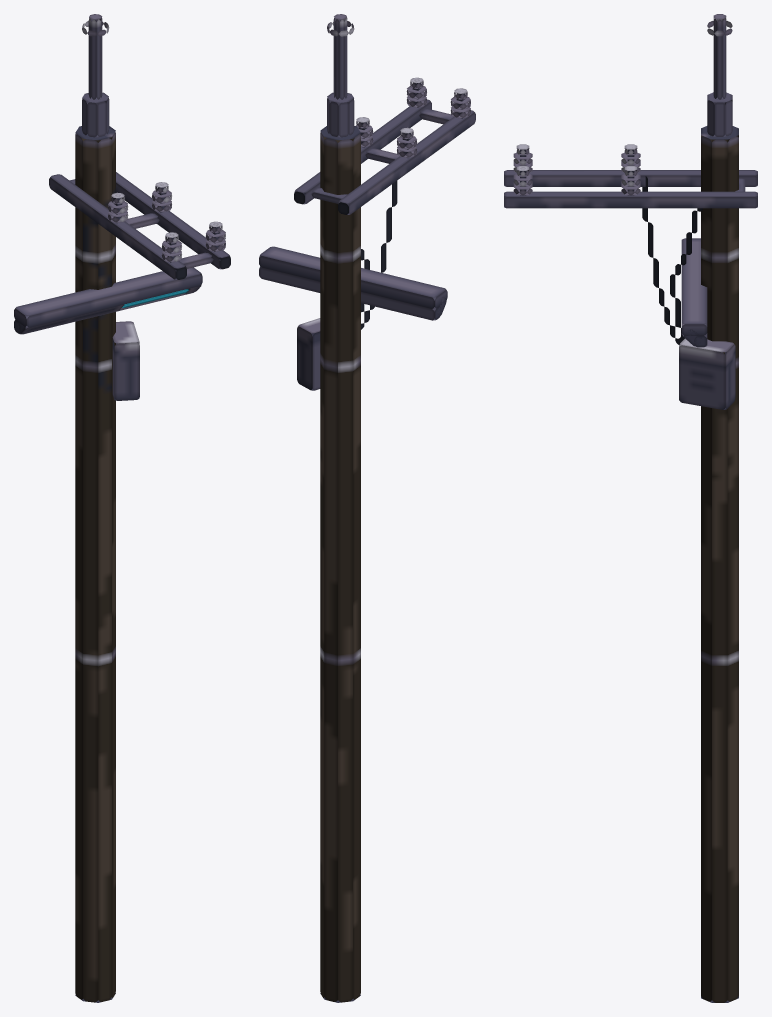
File: Power_Pole.obj
3 renders of one model, left to right at view 1: azimuth 30°, elevation 25°; view 2: azimuth 150°, elevation 25°; view 3: azimuth 270°, elevation 25°, orthographic.
Parts seen in each view (by area): view 1: cylinder, cuboid; view 2: cylinder, cuboid, plane; view 3: cylinder, cuboid, plane.
Part boxes in pixels (left/top/right/bottom): cylinder: left=75, top=14, right=225, bottom=1002; cuboid: left=14, top=172, right=230, bottom=400; cylinder: left=320, top=14, right=470, bottom=1002; cuboid: left=259, top=79, right=475, bottom=390; plane: left=361, top=181, right=397, bottom=329; cylinder: left=513, top=14, right=738, bottom=1002; cuboid: left=504, top=147, right=757, bottom=409; plane: left=642, top=176, right=702, bottom=344.
Bounding box in the file's own units: 2 × 10.62 × 2.5.
Materials: 1 (1 with a texture image).
